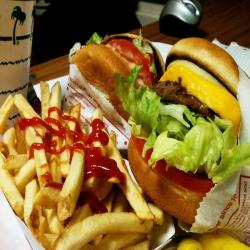burger: (124, 53, 250, 220), (66, 19, 176, 138)
fries: (1, 88, 158, 246)
ketchup: (38, 114, 126, 188)
